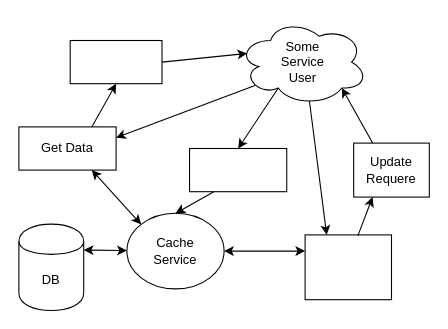
Image size: 448x329. Some labels were removed from this diagram. Each missing label, with the box of its shape:
Check Fresh Time: (304, 234, 392, 300)
Observable Data: (69, 39, 162, 84)
Set Data: (188, 147, 287, 192)
